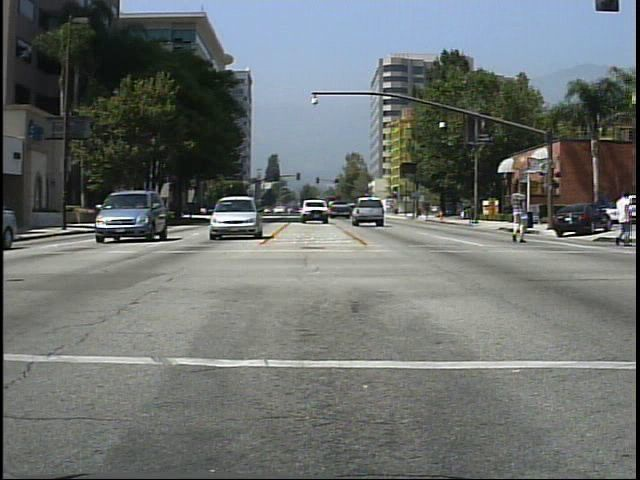person: (604, 184, 637, 255), (504, 184, 532, 246)
